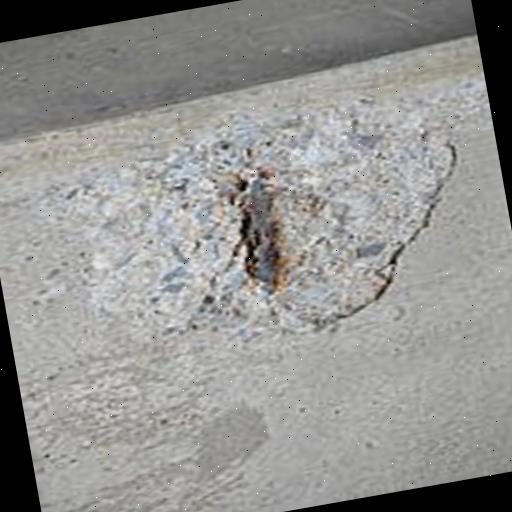spalling: (49, 75, 496, 390)
